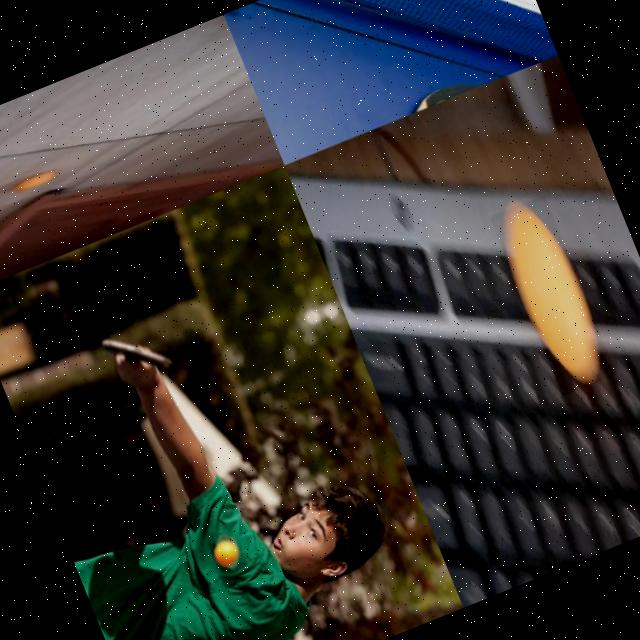ping-pong-ball: (488, 194, 615, 396), (10, 168, 58, 195), (210, 538, 241, 570)
